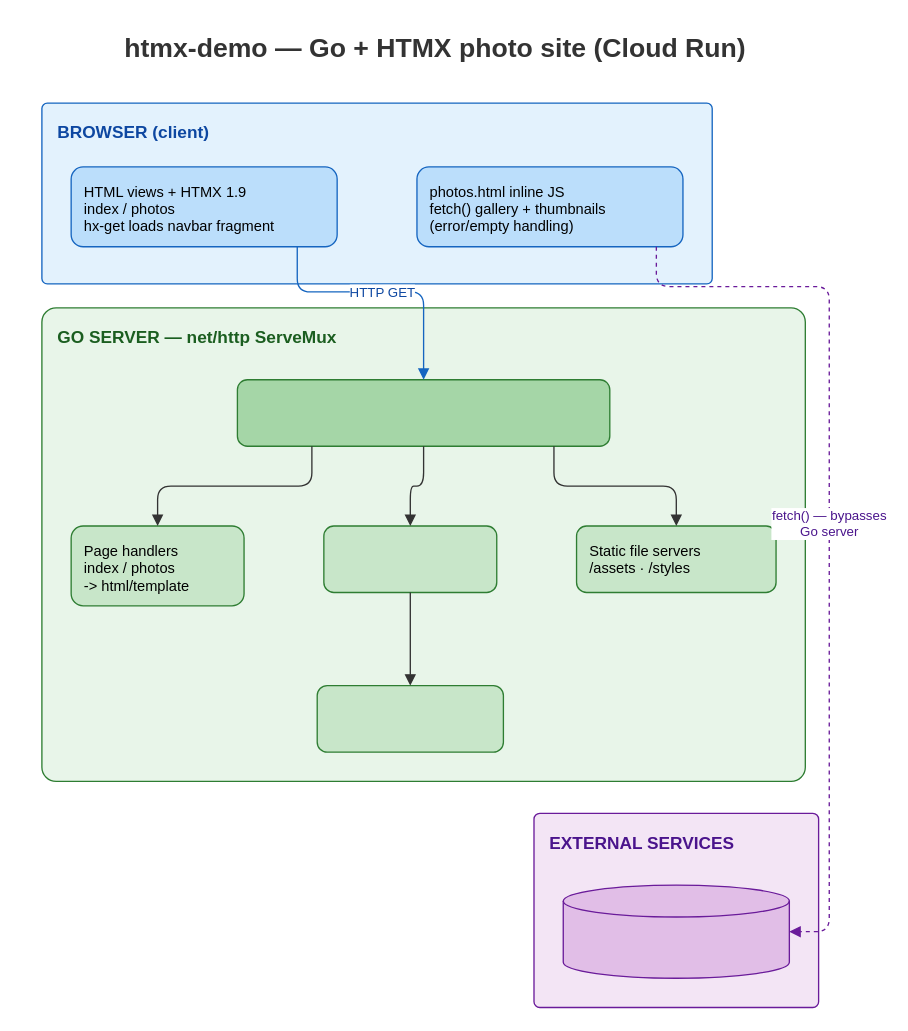
Image size: 908x1031. Some labels were removed from this diagram. Each missing label, with the centre of its shape:
"Google Cloud Storage chasedv-photos bucket" belongs at [675,931].
"navbar fragment active-link state" belongs at [410,559].
"requests pkg navbar path helper" belongs at [409,718].
"router/router.go + middleware ServeMux · logRequests · recoverPanics" belongs at [423,412].
